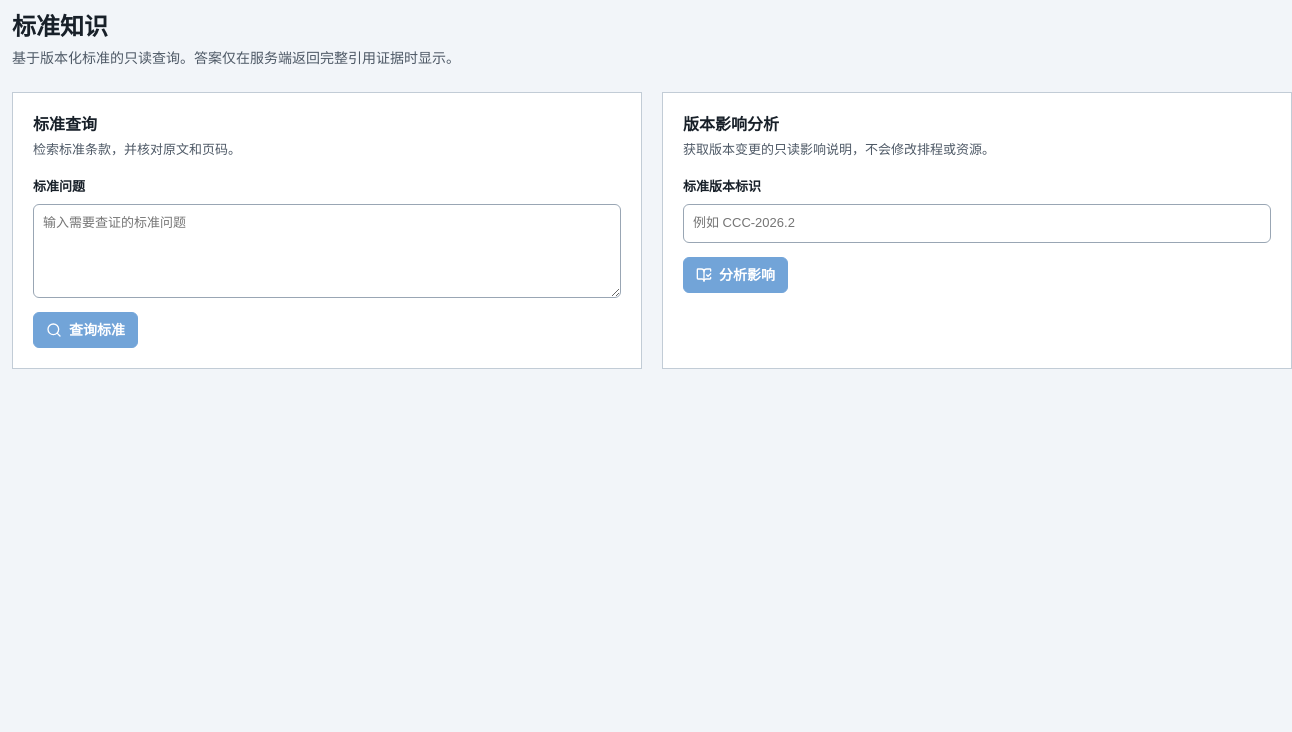
KnowledgePage › retries a failed impact analysis with the requested standard version
Type "CCC-2026.2" into the field labelled "标准版本标识". click: (977, 224)
box: x1=683 y1=204 x2=1271 y2=243
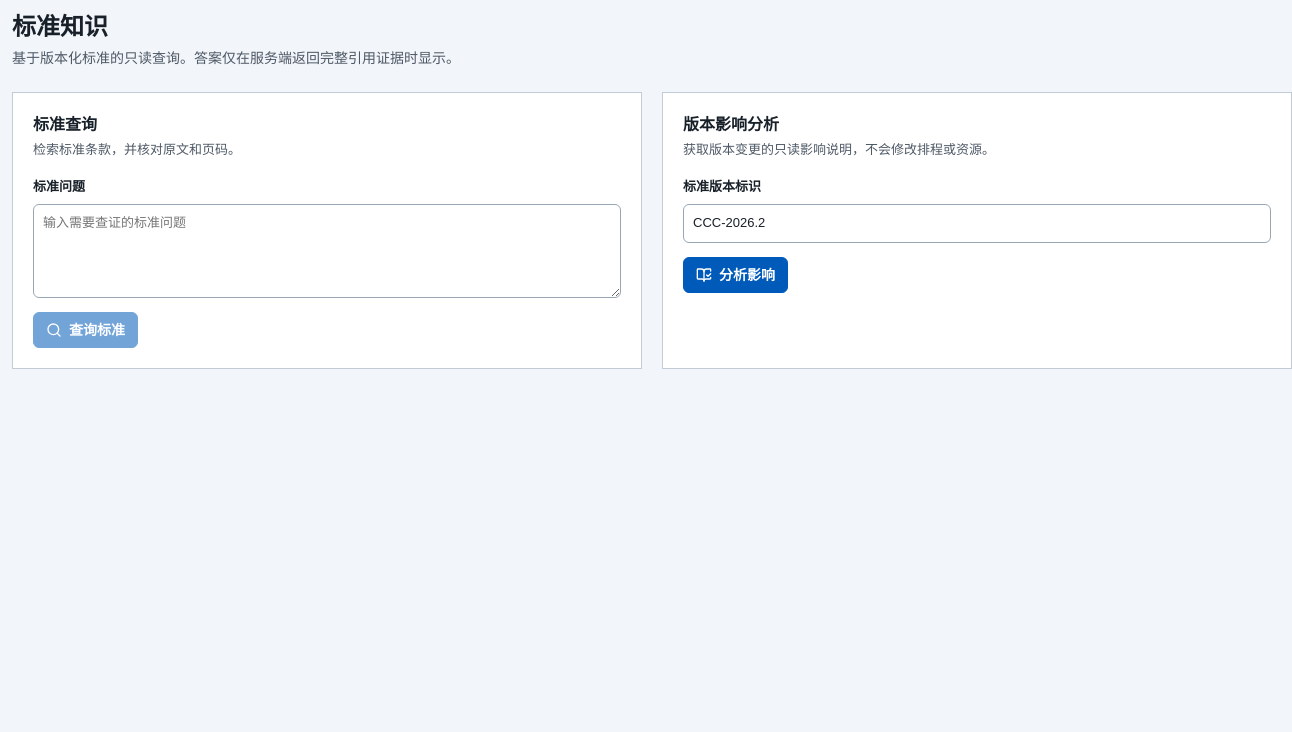
Click the button "分析影响". click: (736, 275)
box: x1=683 y1=257 x2=788 y2=293
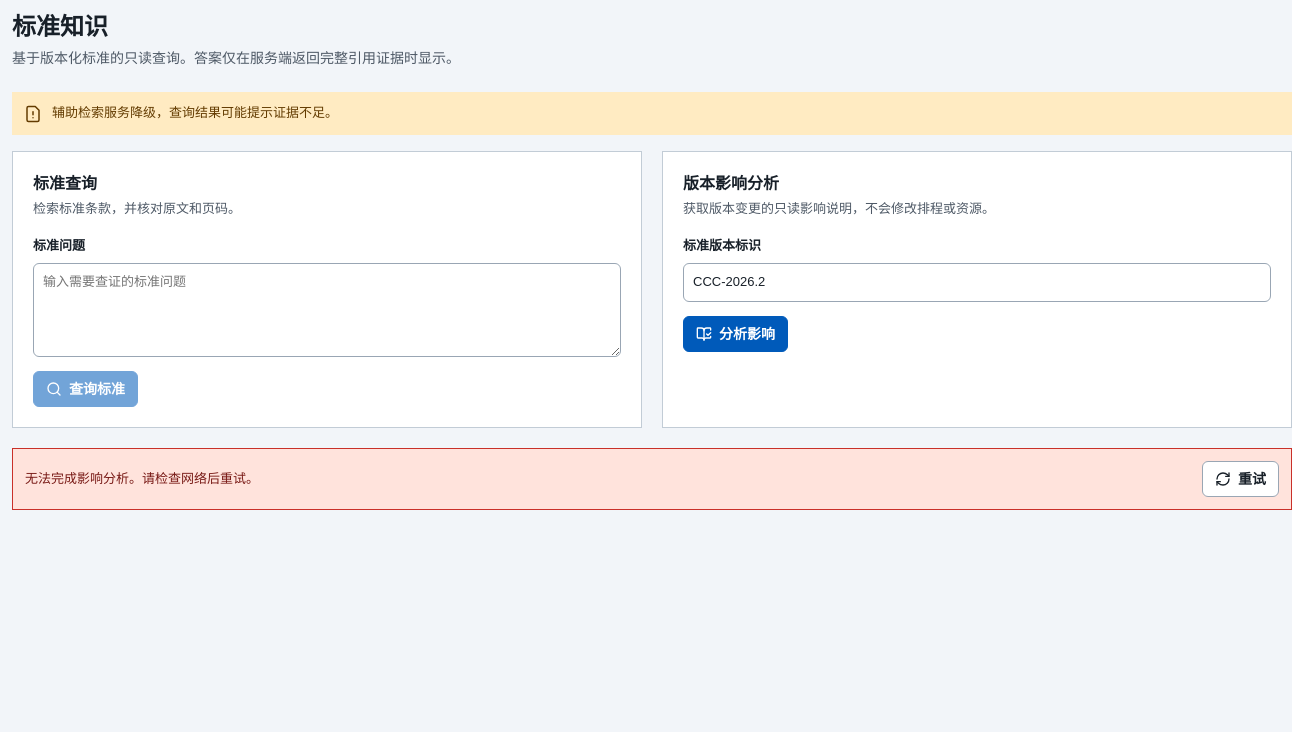
Now the message "无法完成影响分析。请检查网络后重试。 重试" is shown, box x1=12 y1=448 x2=1291 y2=510
Click the button with aria-label "重试影响分析". click: (1240, 479)
box: x1=1202 y1=461 x2=1279 y2=497
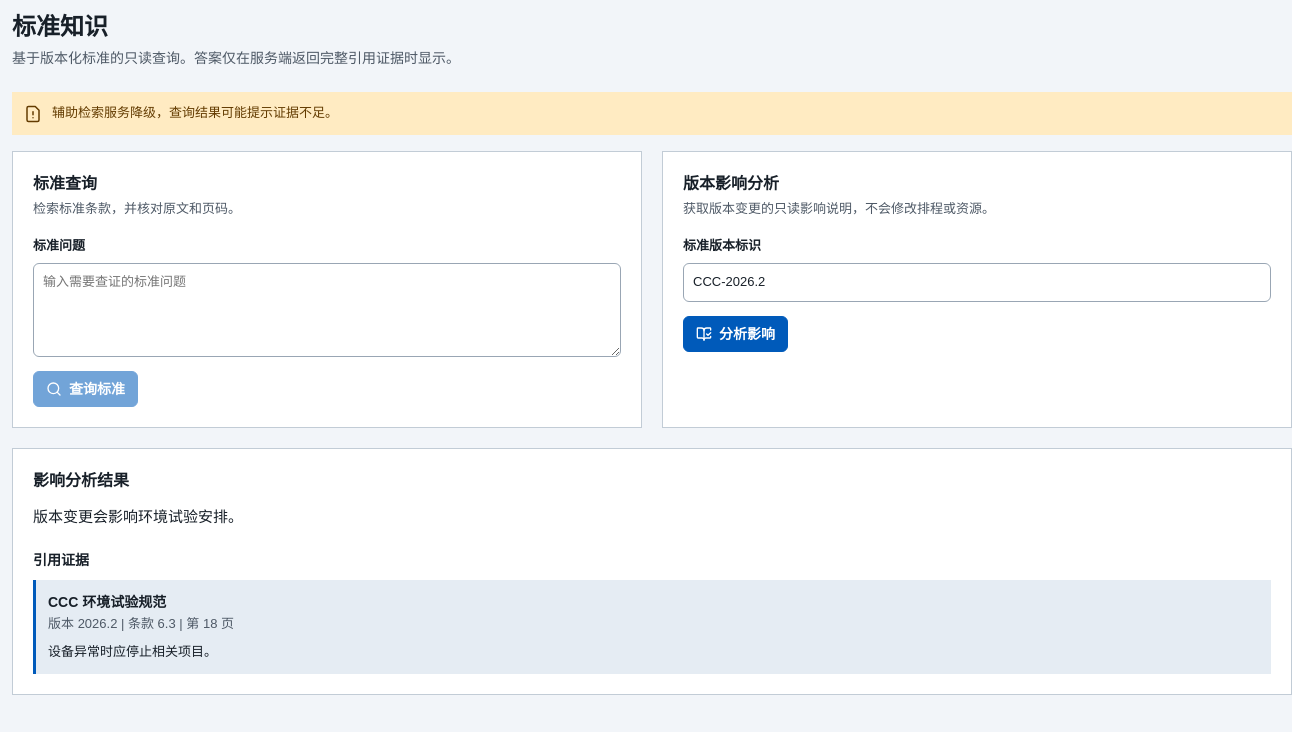
Now the text "版本变更会影响环境试验安排。" is shown, box x1=33 y1=508 x2=243 y2=525
